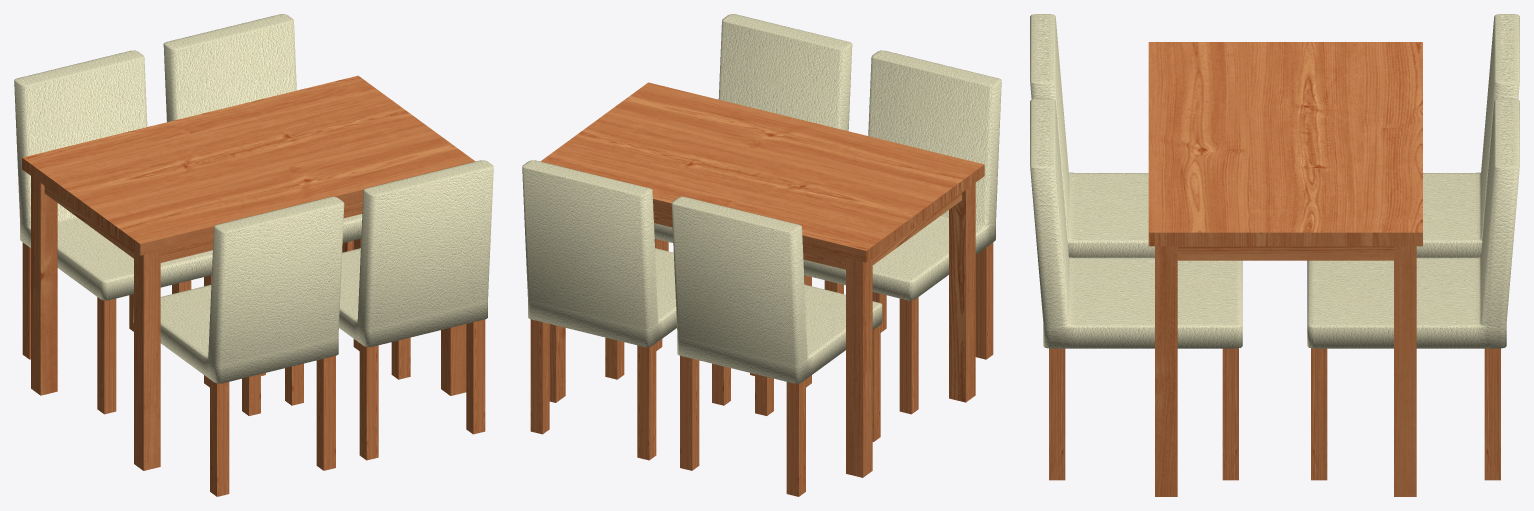
The model's file is diningTable.glb.
The picture shows the model from 3 angles, left to right: view 1: azimuth 30°, elevation 25°; view 2: azimuth 150°, elevation 25°; view 3: azimuth 270°, elevation 25°; orthographic projection. The views are drawn at different scales.
Parts seen in each view (by area): view 1: Table_1, ChairSeat1_3, ChairSeat2_5, ChairSeat4_9, ChairSeat3_7, ChairLegs2_4, ChairLegs1_2, ChairLegs4_8; view 2: Table_1, ChairSeat4_9, ChairSeat3_7, ChairSeat1_3, ChairSeat2_5, ChairLegs4_8, ChairLegs3_6, ChairLegs1_2; view 3: Table_1, ChairSeat2_5, ChairSeat3_7, ChairSeat1_3, ChairSeat4_9, ChairLegs2_4, ChairLegs3_6.
Part boxes in pixels (bbox=[...]): Table_1: bbox=[22, 75, 475, 470]; ChairSeat1_3: bbox=[133, 196, 344, 383]; ChairSeat2_5: bbox=[339, 160, 493, 347]; ChairSeat4_9: bbox=[14, 50, 212, 300]; ChairSeat3_7: bbox=[163, 14, 362, 242]; ChairLegs2_4: bbox=[285, 319, 485, 460]; ChairLegs1_2: bbox=[210, 356, 335, 496]; ChairLegs4_8: bbox=[22, 242, 211, 414]; Table_1: bbox=[540, 82, 984, 477]; ChairSeat4_9: bbox=[671, 196, 882, 383]; ChairSeat3_7: bbox=[522, 160, 676, 347]; ChairSeat1_3: bbox=[803, 50, 1001, 300]; ChairSeat2_5: bbox=[654, 14, 852, 242]; ChairLegs4_8: bbox=[680, 325, 880, 496]; ChairLegs3_6: bbox=[530, 319, 730, 460]; ChairLegs1_2: bbox=[804, 242, 993, 414]; Table_1: bbox=[1148, 42, 1422, 496]; ChairSeat2_5: bbox=[1030, 98, 1242, 348]; ChairSeat3_7: bbox=[1307, 98, 1519, 348]; ChairSeat1_3: bbox=[1030, 14, 1154, 257]; ChairSeat4_9: bbox=[1416, 14, 1519, 257]; ChairLegs2_4: bbox=[1049, 348, 1238, 480]; ChairLegs3_6: bbox=[1311, 348, 1500, 480].
Size of the model in its own units: 1.2 by 0.9236 by 1.3.
Materials: 2 (2 with a texture image).
